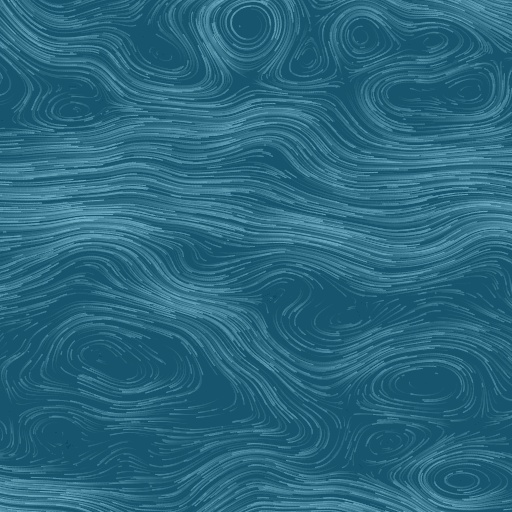eddy: (372, 62, 498, 123), (337, 11, 471, 67), (369, 346, 475, 413), (61, 328, 154, 392), (417, 447, 506, 508), (207, 1, 285, 64), (359, 422, 414, 461), (291, 31, 325, 76), (52, 99, 97, 124)
